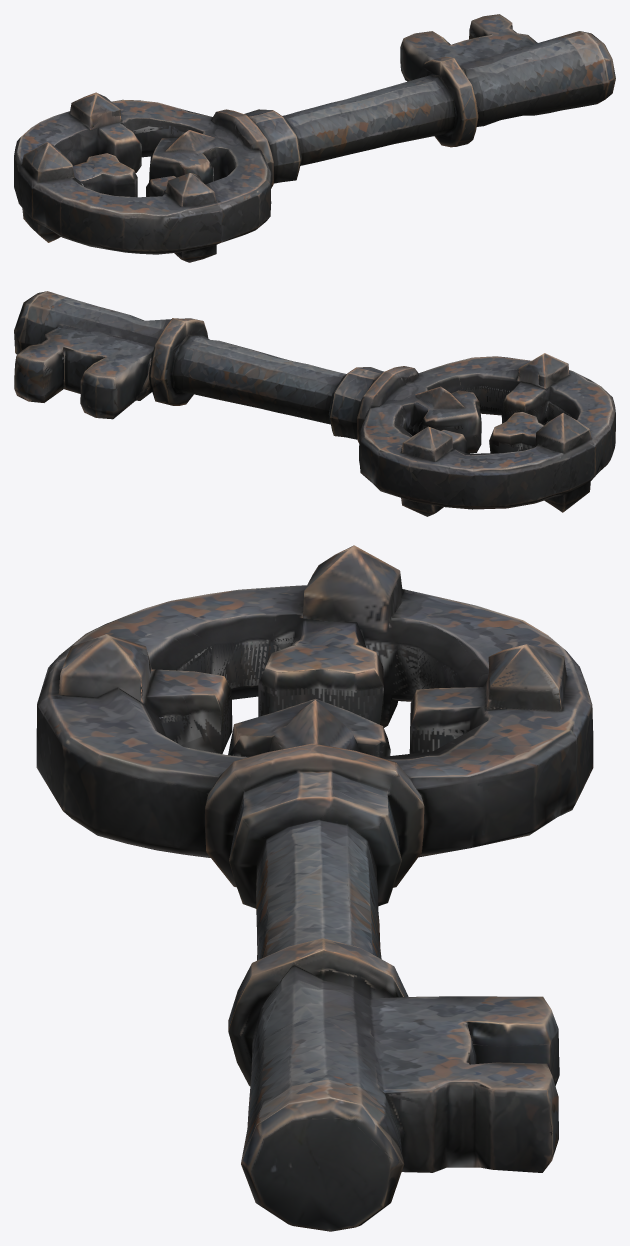
The model's file is Item_KeyIron.fbx.
The picture shows the model from 3 angles, top to bottom: view 1: azimuth 30°, elevation 25°; view 2: azimuth 150°, elevation 25°; view 3: azimuth 270°, elevation 25°; orthographic projection. The views are drawn at different scales.
Parts seen in each view (by area): view 1: texture_mapping; view 2: texture_mapping; view 3: texture_mapping.
Boxes of the visible parts, x1=… form: texture_mapping: x1=14, y1=14, x2=615, y2=262; texture_mapping: x1=14, y1=291, x2=615, y2=516; texture_mapping: x1=36, y1=545, x2=593, y2=1231.
Size of the model in its own units: 1 by 0.4268 by 0.1703.
1 material, 1 textured.
